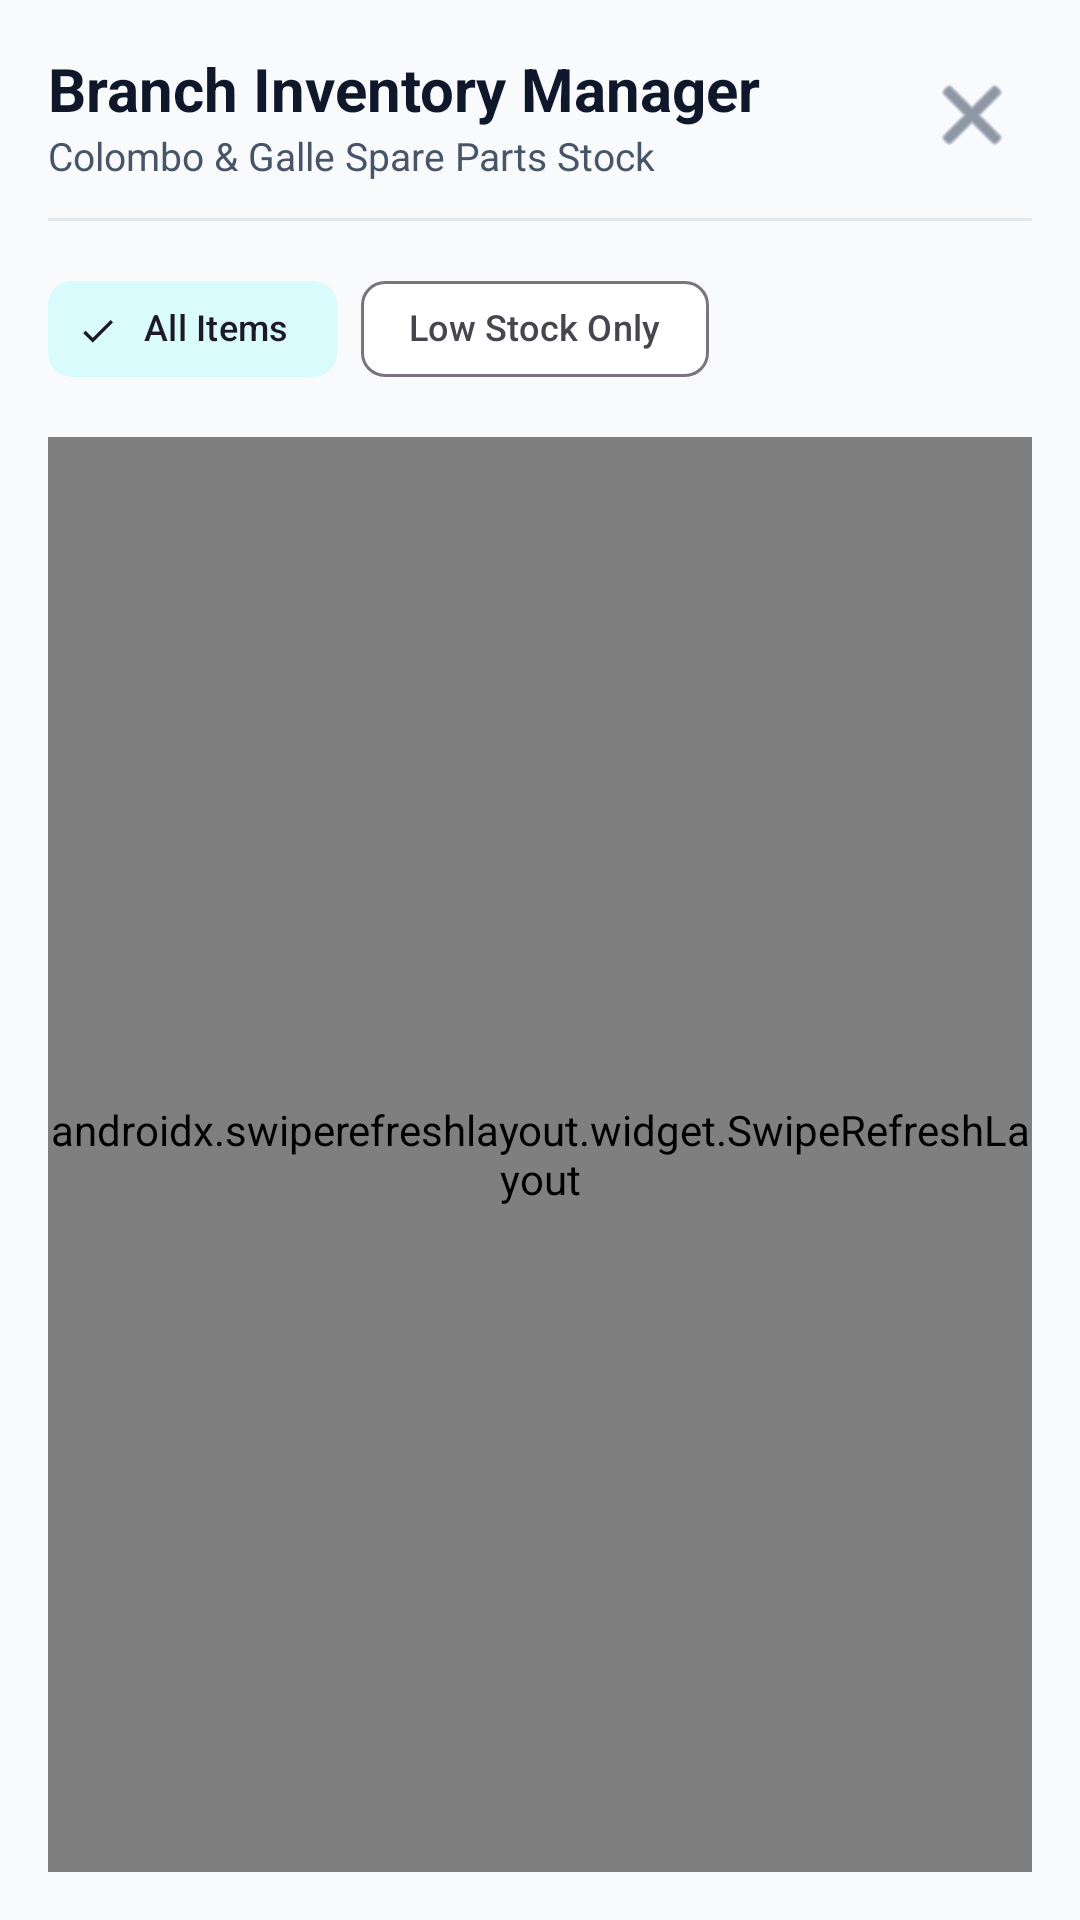

Screen size 1080px x 1920px. Icon name, then its center in pixels as (x=x, y=y):
Close: (x=972, y=115)
